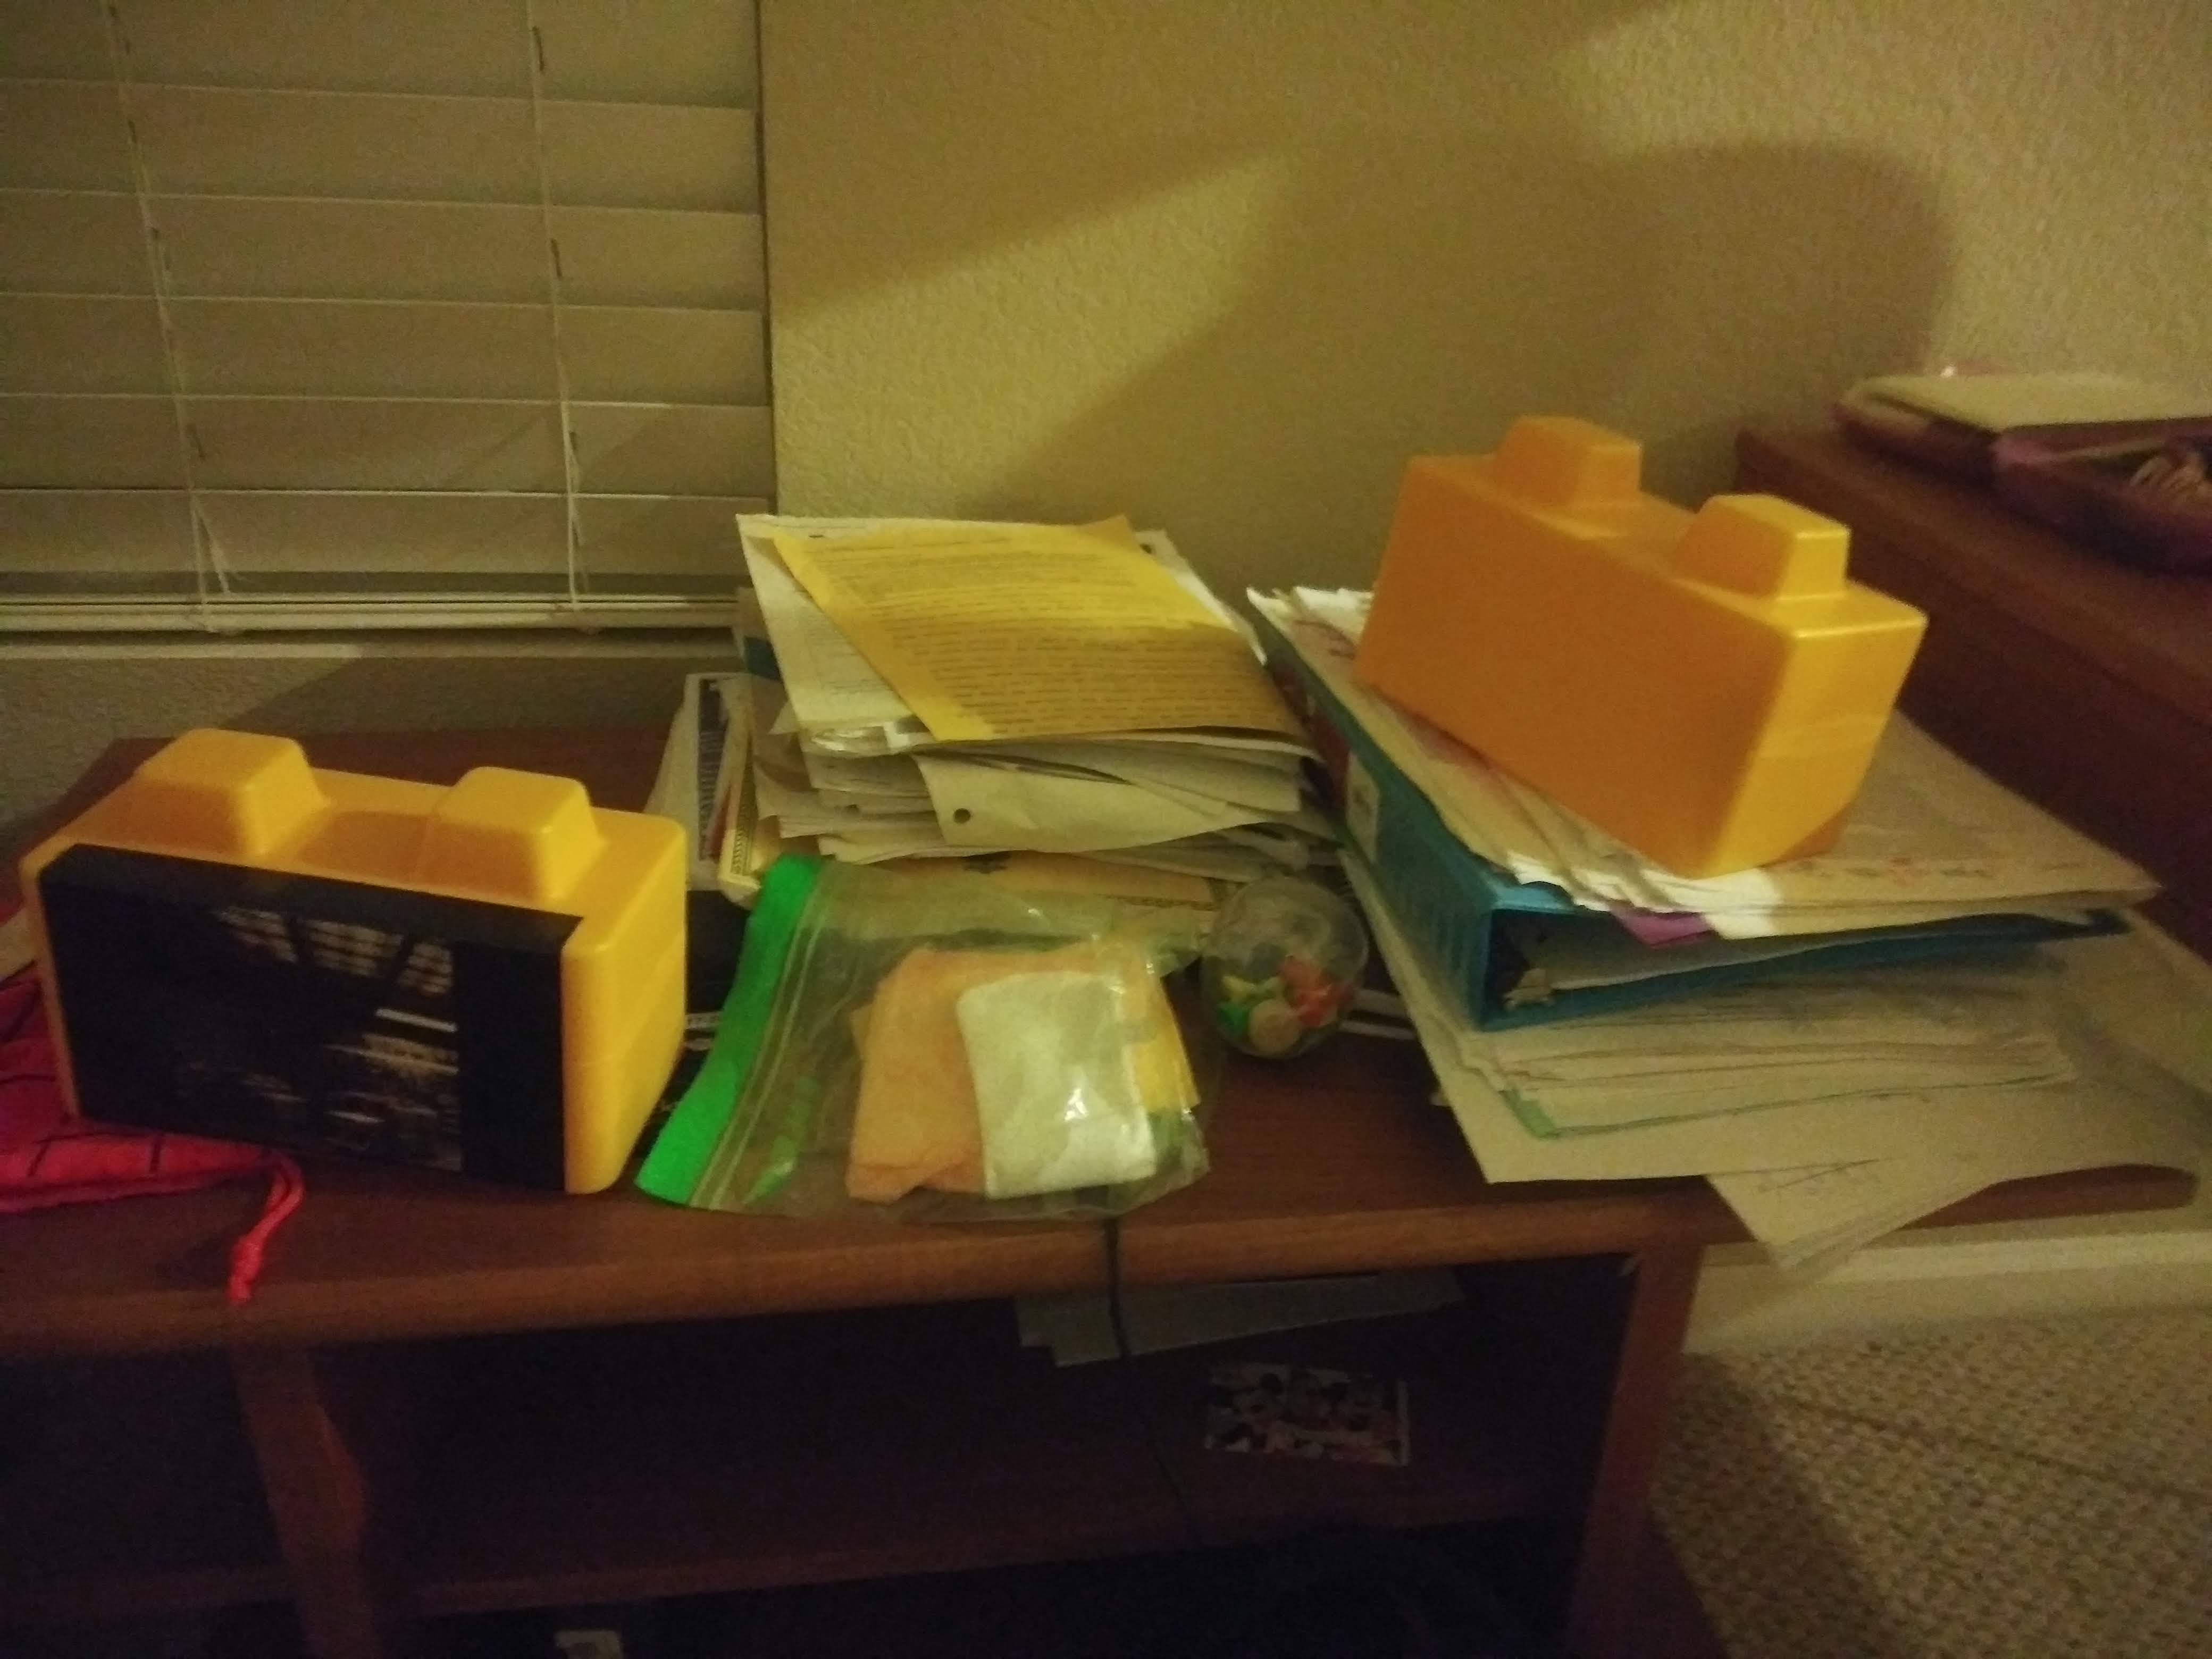skystone: (47, 775, 665, 1195)
stone: (1374, 425, 1881, 845)
